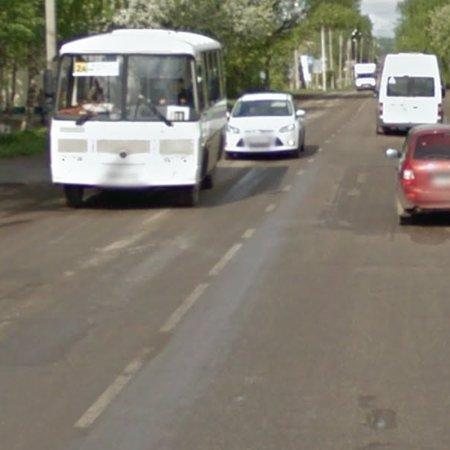buses: (50, 29, 227, 207)
